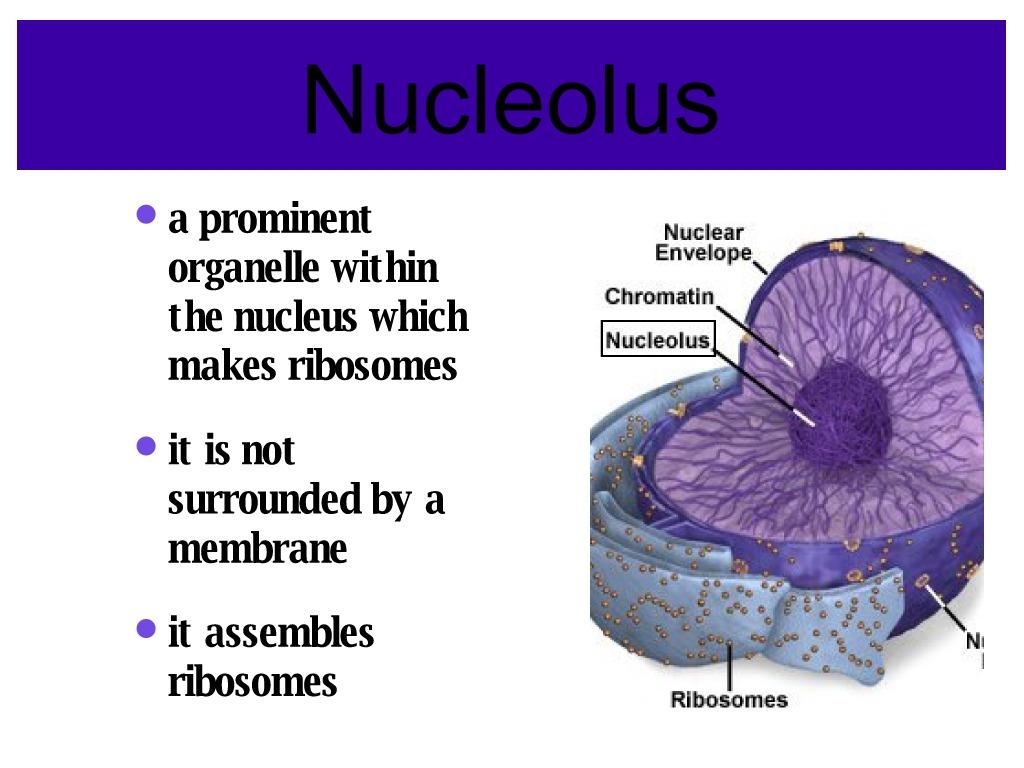paragraph: (128, 194, 495, 726)
title: (295, 52, 729, 151)
